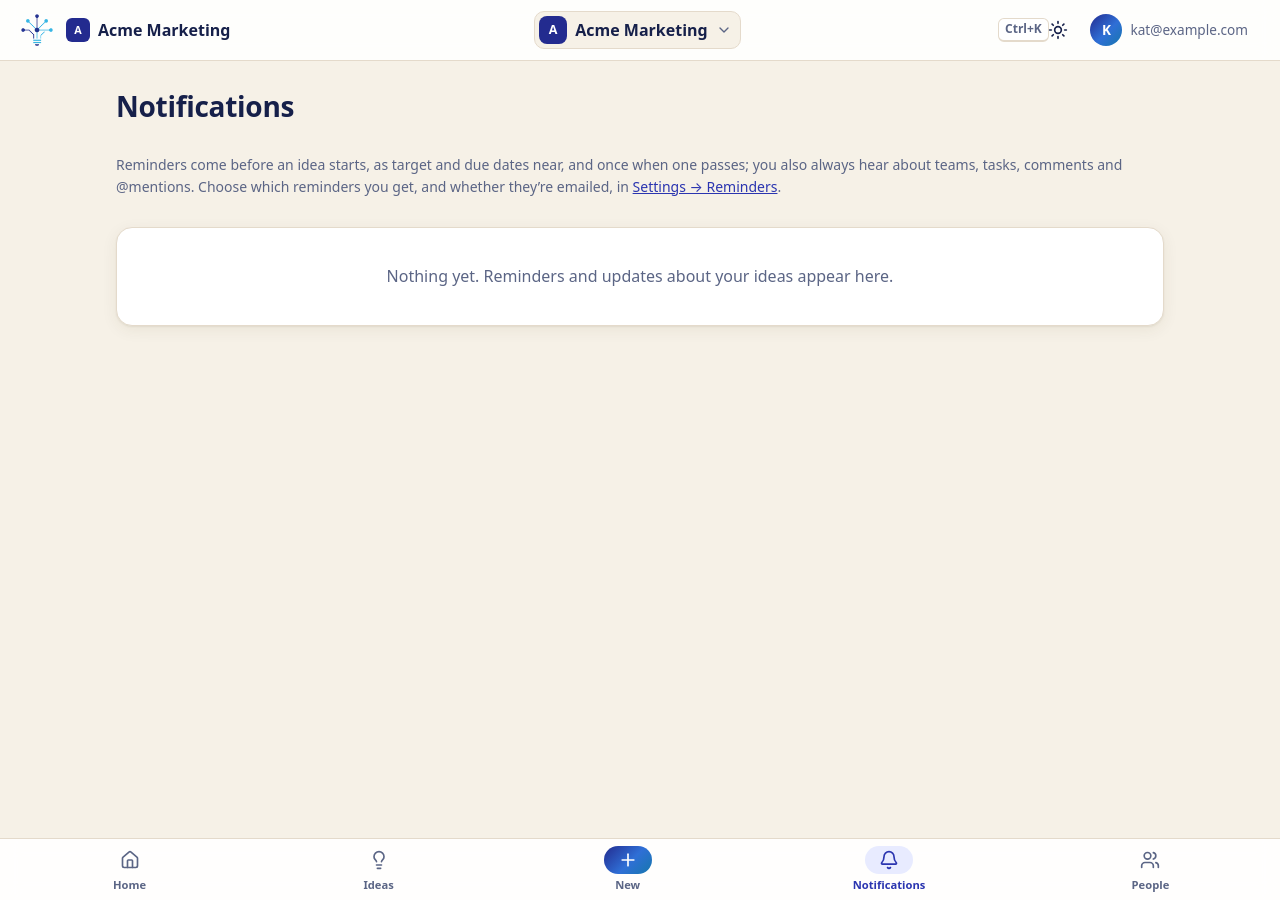
Test: Bottom bar on a phone › opens the New idea form
Click the link with aria-label "New idea" at point(628, 869), box [604,846,652,892]
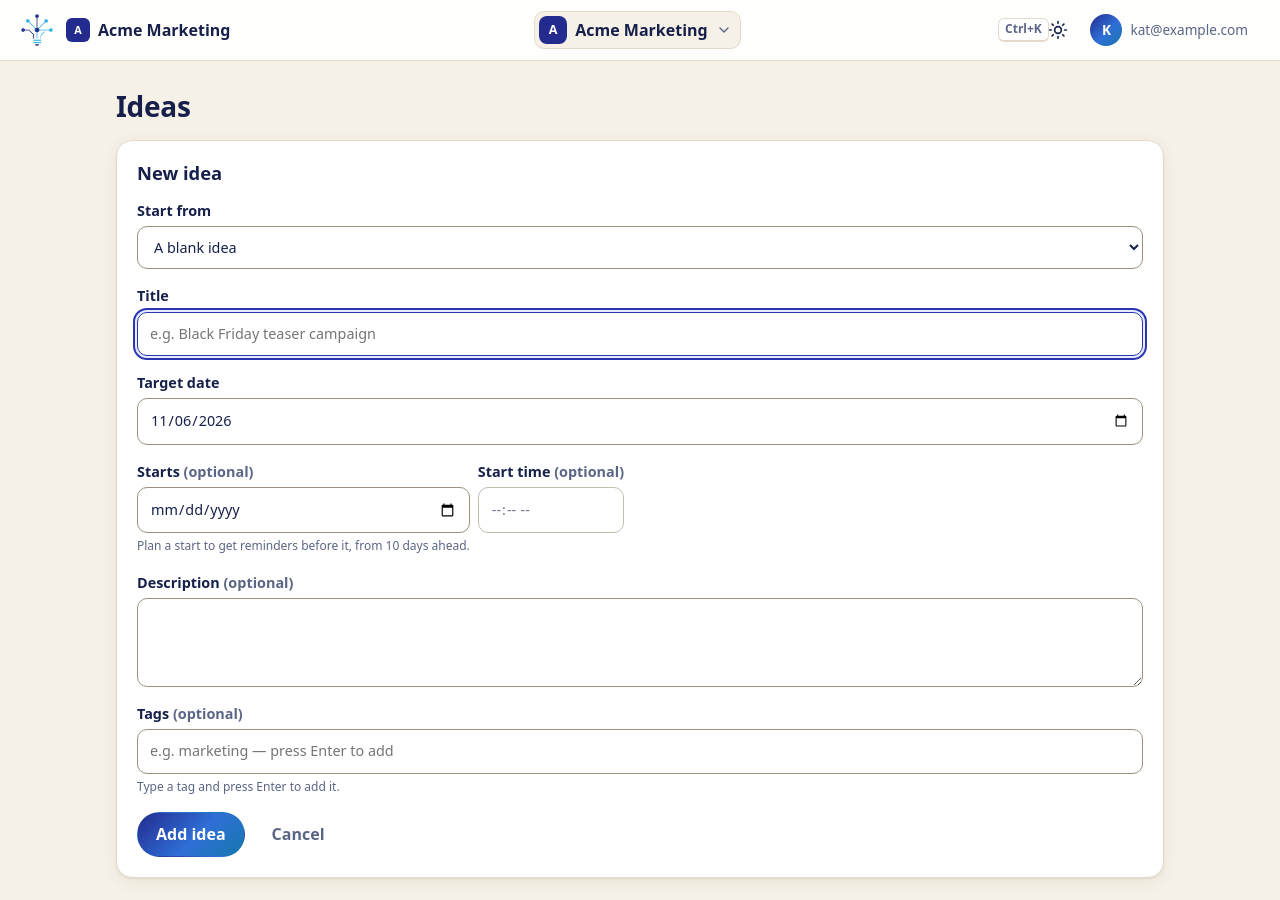
Expected: the form "New idea" is shown
